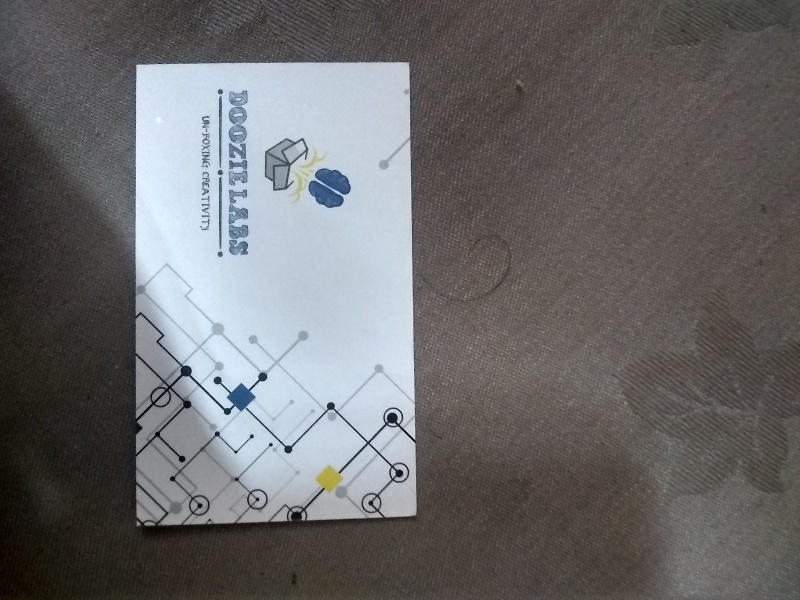back: (129, 57, 422, 527)
